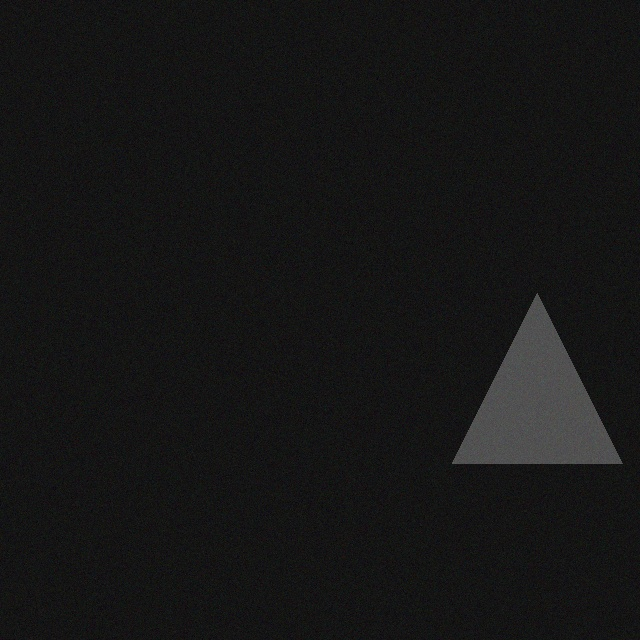triangle: (438, 294, 608, 464)
